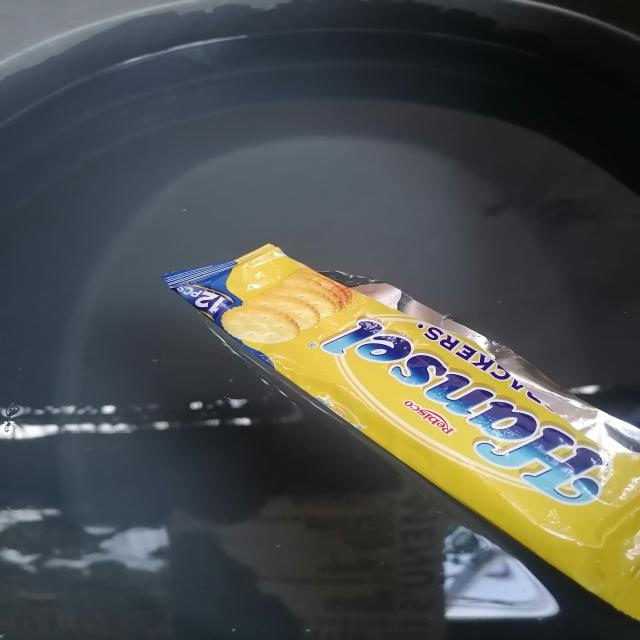Plastic Wrapper: (163, 244, 640, 619)
